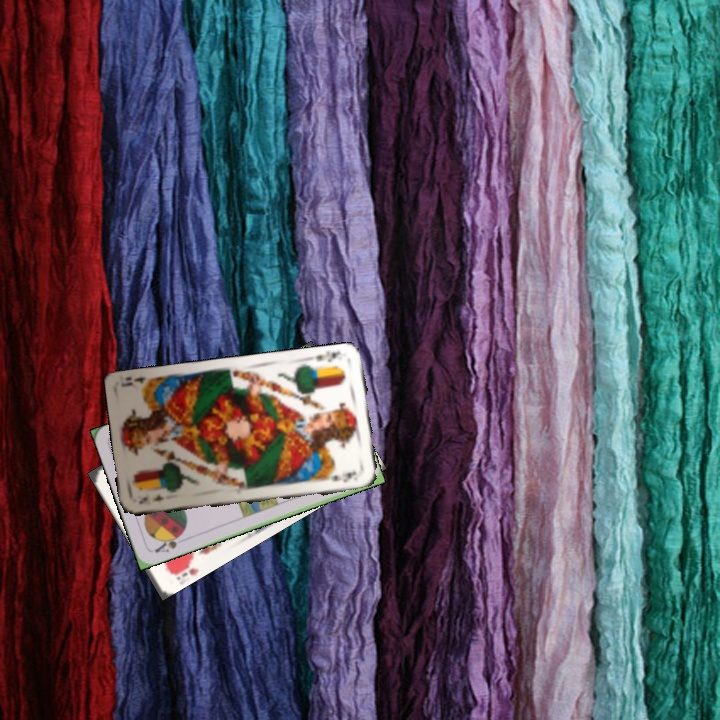EK: (311, 347, 343, 365), (135, 491, 167, 506)
HK: (165, 554, 197, 583)
SA: (151, 529, 186, 555)
